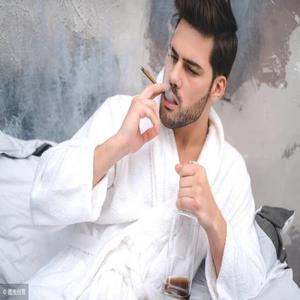cigarette: (140, 65, 163, 89)
